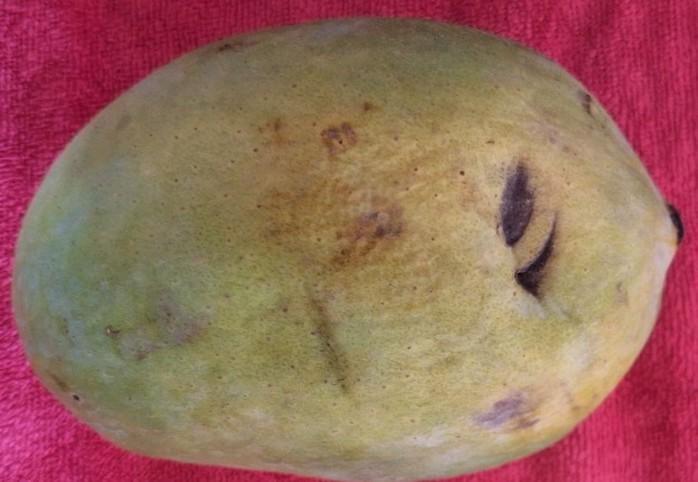mango: (10, 14, 682, 481)
